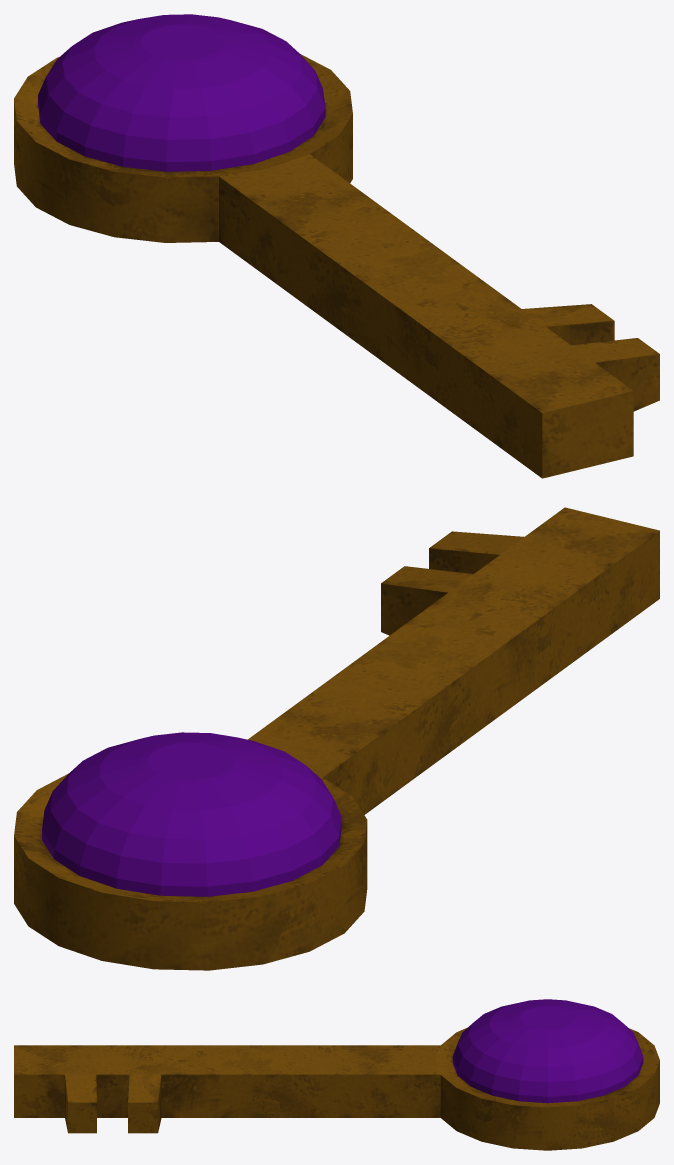
The model's file is llave.fbx.
3 renders of one model, top to bottom at view 1: azimuth 30°, elevation 25°; view 2: azimuth 150°, elevation 25°; view 3: azimuth 270°, elevation 25°, orthographic. The views are drawn at different scales.
Visible parts, largest first — view 1: polySurface1, polySurface2; view 2: polySurface1, polySurface2; view 3: polySurface1, polySurface2.
Part boxes in pixels (x1,y1,x2,y2): polySurface1: (14, 54, 659, 478); polySurface2: (38, 14, 325, 171); polySurface1: (14, 507, 659, 970); polySurface2: (42, 732, 341, 896); polySurface1: (14, 1027, 659, 1150); polySurface2: (452, 999, 643, 1103).
Bounding box in the file's own units: 2 × 0.838 × 5.75.
